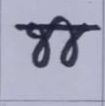i_matra: (52, 15, 74, 67)
